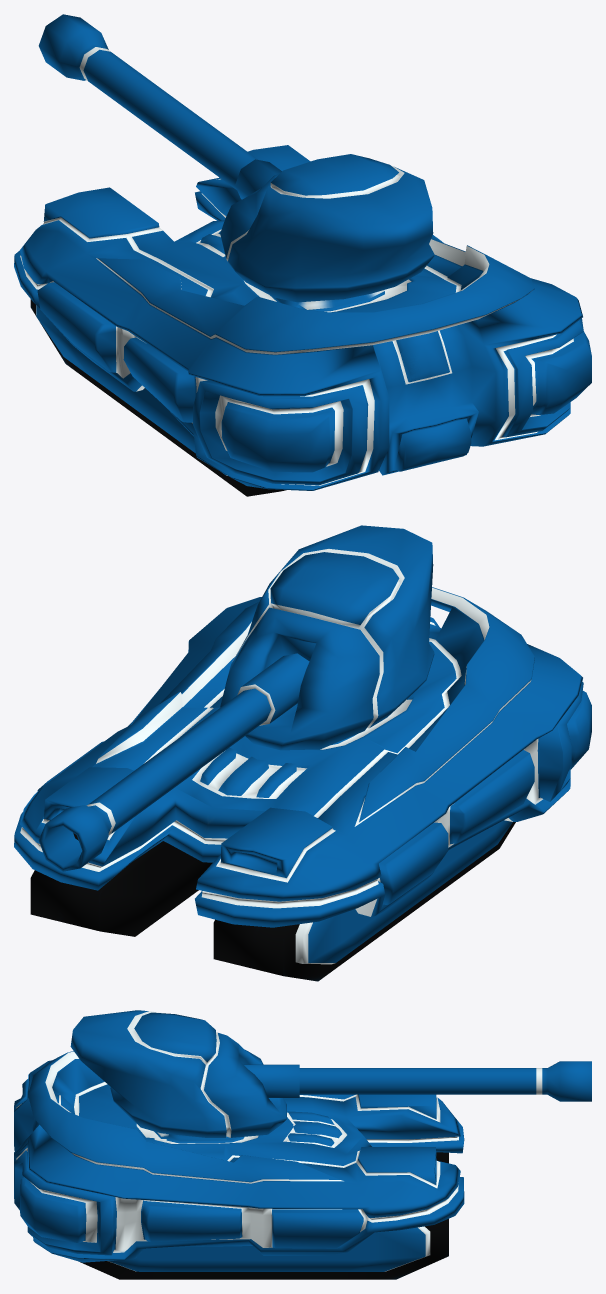
File: tank_03.fbx
The picture shows the model from 3 angles, top to bottom: view 1: azimuth 30°, elevation 25°; view 2: azimuth 150°, elevation 25°; view 3: azimuth 270°, elevation 25°; orthographic projection. The views are drawn at different scales.
Parts seen in each view (by area): view 1: TankBody, CannonBase, Barrel; view 2: TankBody, CannonBase, Barrel; view 3: TankBody, CannonBase, Barrel.
Part boxes in pixels (box(x1,y1,x2,y2)): TankBody: box(14, 145, 591, 496); CannonBase: box(220, 154, 434, 302); Barrel: box(38, 14, 281, 199); TankBody: box(14, 587, 591, 981); CannonBase: box(220, 525, 434, 750); Barrel: box(38, 653, 309, 871); TankBody: box(14, 1051, 464, 1279); CannonBase: box(70, 1010, 286, 1137); Barrel: box(244, 1061, 591, 1101).
Bounding box in the file's own units: 1847 × 1284 × 3262.
